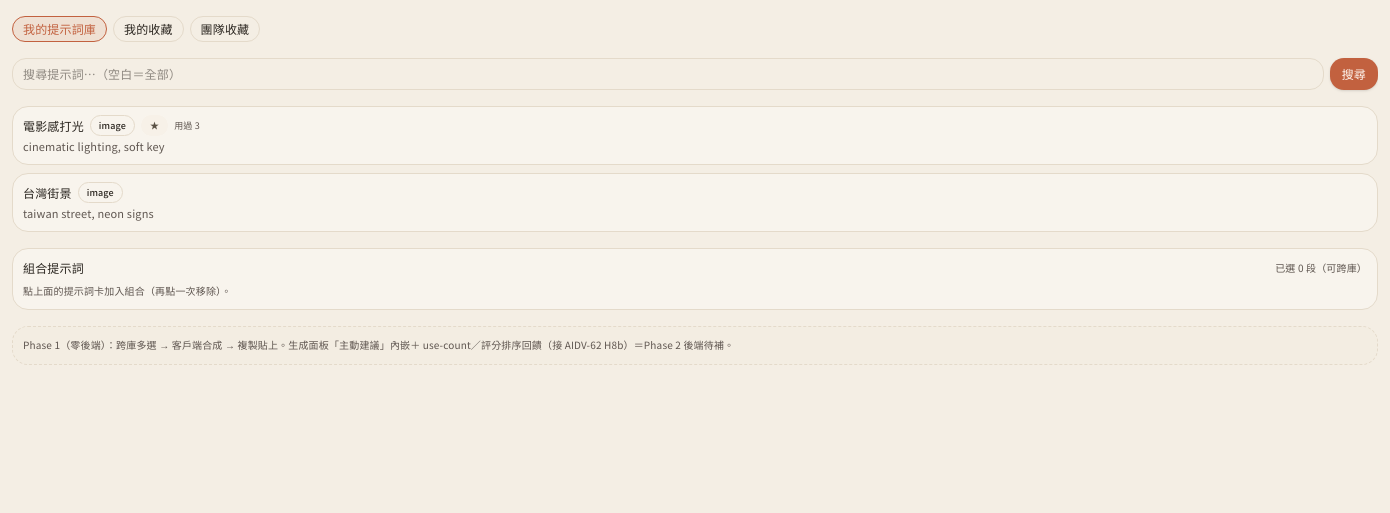
PromptWorkbench（I-8 / AIDV-86 Phase 1） › 點卡多選 → 組合區合成合併文字＋已選計數
The width and height of the screenshot is (1390, 513).
Click the button "電影感打光 image ★ 用過 3 cinematic lighting, soft key" at [53, 125], box left=12, top=106, right=1378, bottom=165
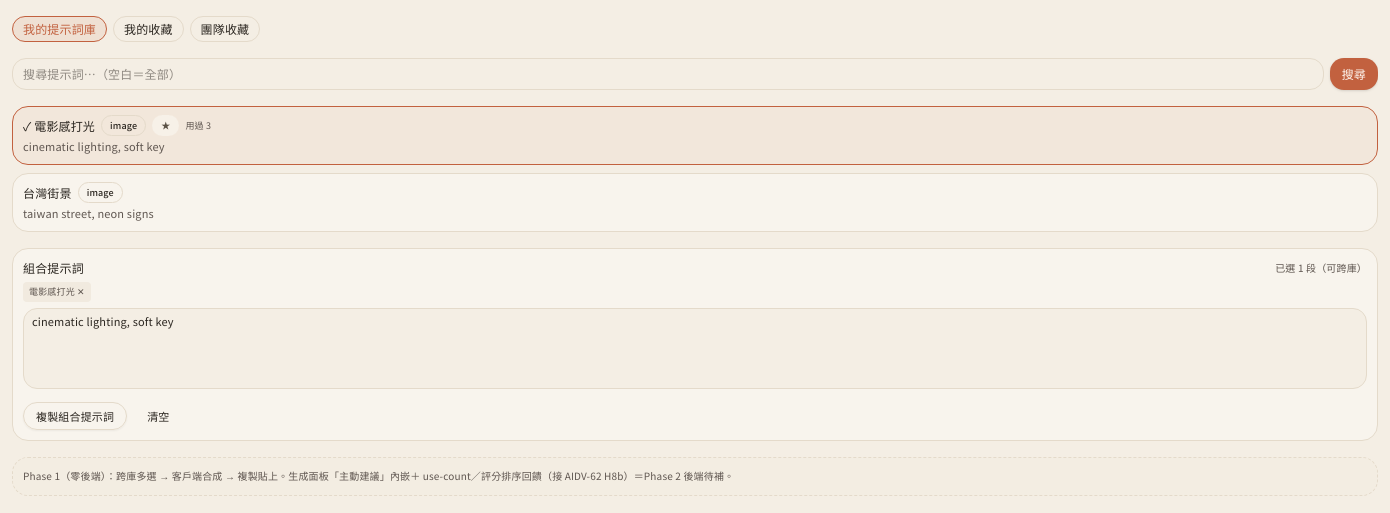
Click the button "台灣街景 image taiwan street, neon signs" at [47, 192], box left=12, top=173, right=1378, bottom=232
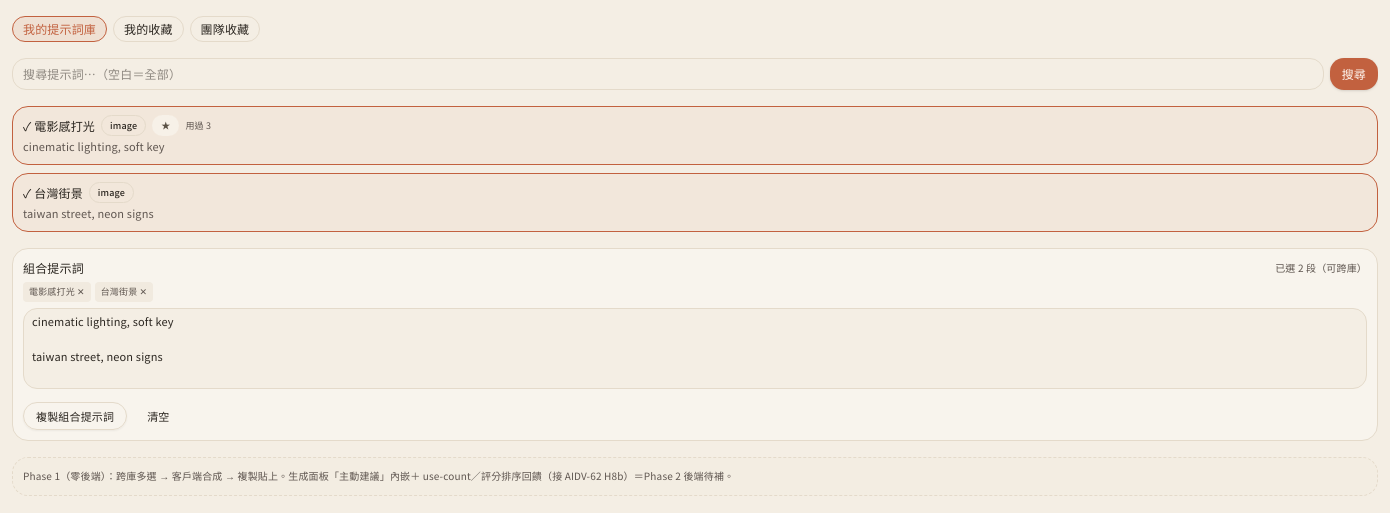
Check: the text "已選 2 段（可跨庫）" is shown, box left=1275, top=259, right=1367, bottom=276
